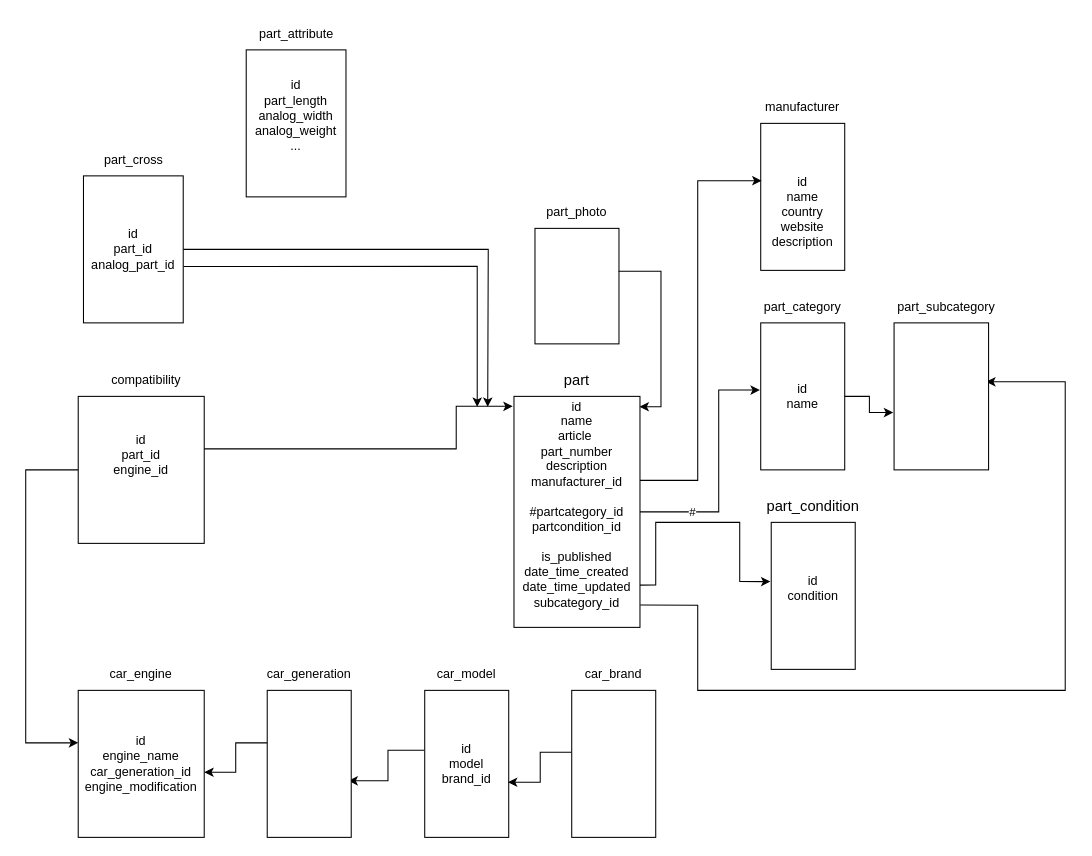
This 1092x856 diagram has some shape labels left out. Here are the shapes that lost their labels. From the top down, the centre of each, then its label:
At [576,285]: "id part_id image is_main".
At [941,396]: "id name part_categoryid".
At [308,763]: "id generation model_id photo".
At [613,763]: "id brand".
